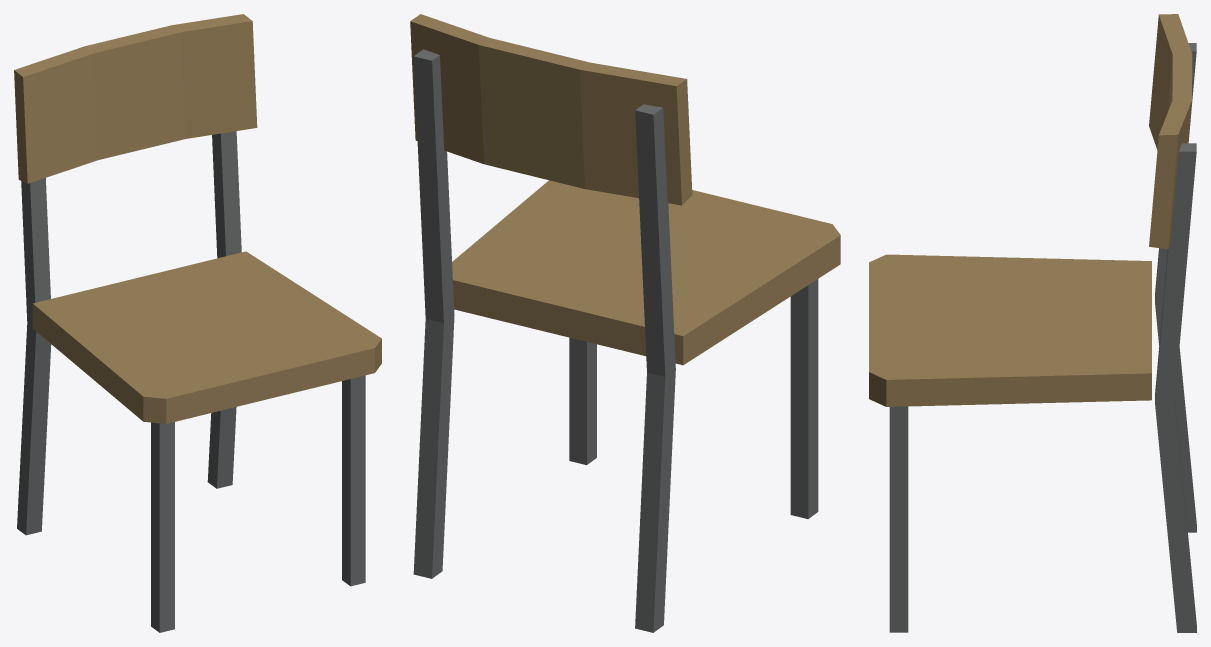
The model's file is SM_Prop_Cafe_Chair_01.obj.
The picture shows the model from 3 angles, left to right: view 1: azimuth 30°, elevation 25°; view 2: azimuth 150°, elevation 25°; view 3: azimuth 270°, elevation 25°; orthographic projection. The views are drawn at different scales.
Visible parts, largest first — view 1: SM_Prop_Cafe_Chair_01_0; view 2: SM_Prop_Cafe_Chair_01_0; view 3: SM_Prop_Cafe_Chair_01_0.
Part boxes in pixels (x1,y1,x2,y2): SM_Prop_Cafe_Chair_01_0: (14, 14, 381, 632); SM_Prop_Cafe_Chair_01_0: (410, 14, 840, 632); SM_Prop_Cafe_Chair_01_0: (869, 14, 1196, 632).
Size of the model in its own units: 0.5234 by 0.981 by 0.5776.
Materials: 1 (1 with a texture image).
